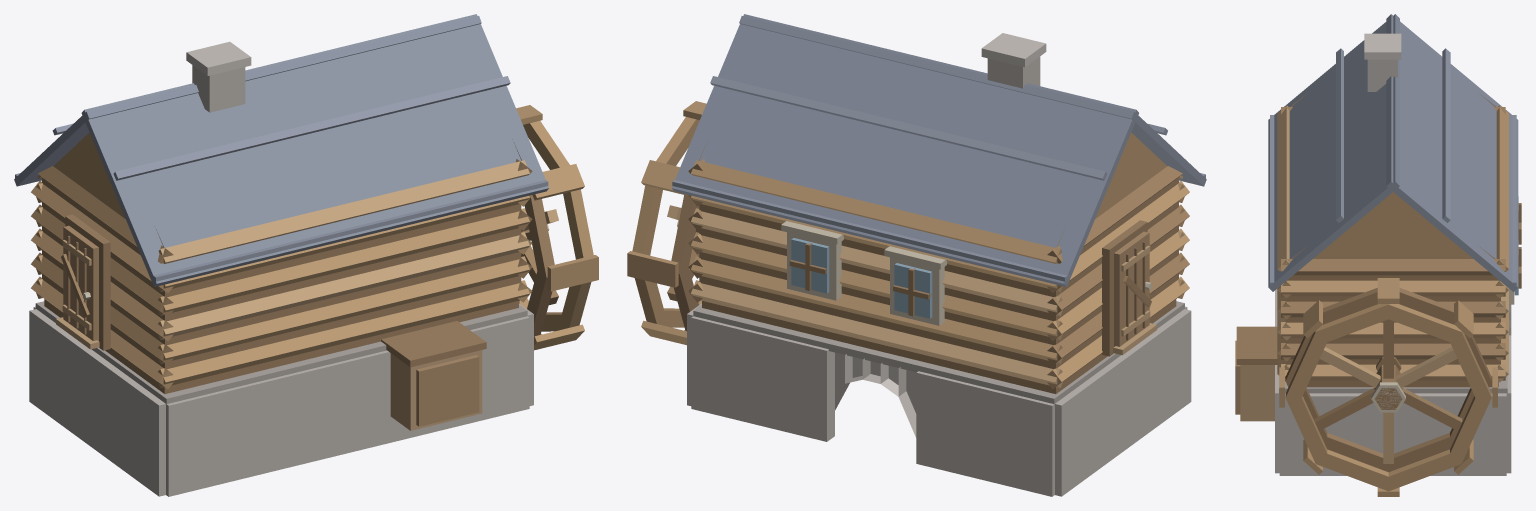
The picture shows the model from 3 angles, left to right: view 1: azimuth 30°, elevation 25°; view 2: azimuth 150°, elevation 25°; view 3: azimuth 270°, elevation 25°; orthographic projection. The views are drawn at different scales.
Parts seen in each view (by area): view 1: Body, WheelPivot; view 2: Body, WheelPivot; view 3: Body, WheelPivot.
Boxes of the visible parts, box(x1,y1,x2,y2) form: Body: box(14, 14, 548, 496); WheelPivot: box(516, 105, 598, 350); Body: box(671, 14, 1206, 496); WheelPivot: box(627, 101, 706, 345); Body: box(1235, 14, 1521, 475); WheelPivot: box(1279, 278, 1497, 496).
Size of the model in its own units: 8.02 by 6.17 by 4.94.
